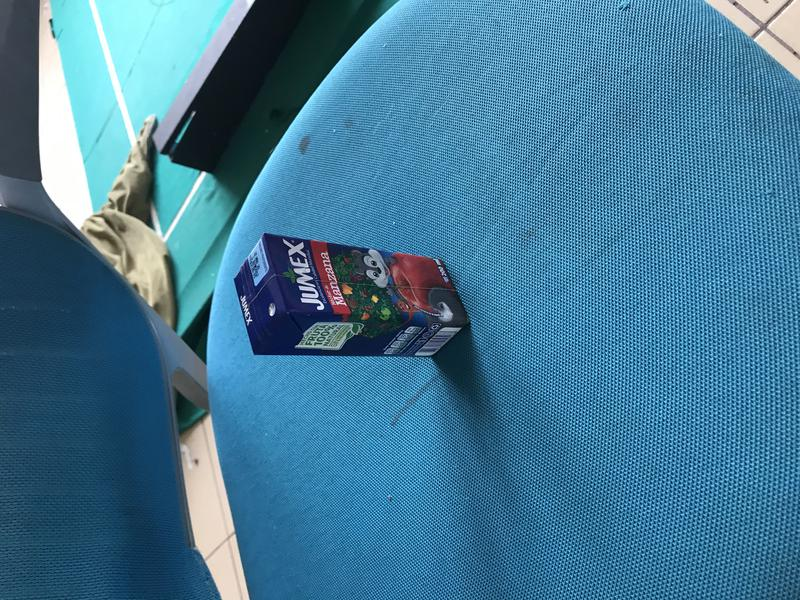jumex_cajita: (233, 234, 470, 360)
